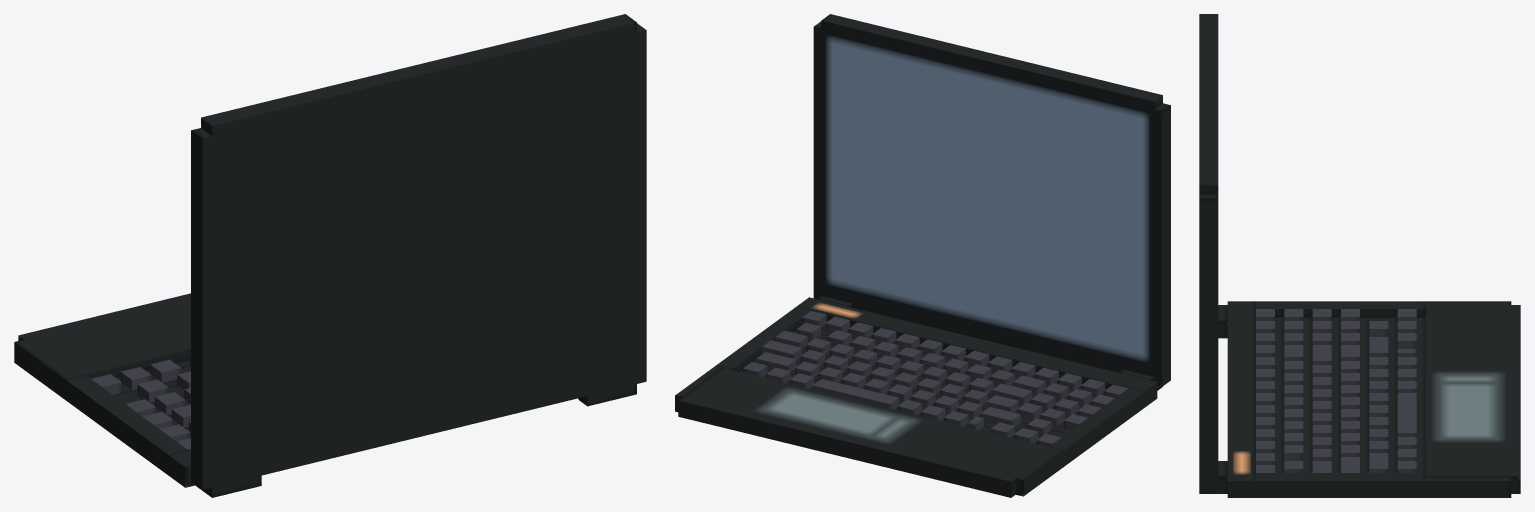
The model's file is laptop.dae.
3 views of the same model, side by side, from view 1: azimuth 30°, elevation 25°; view 2: azimuth 150°, elevation 25°; view 3: azimuth 270°, elevation 25° (orthographic). The views are drawn at different scales.
Parts seen in each view (by area): view 1: Content; view 2: Content; view 3: Content.
Part boxes in pixels (x1,y1,x2,y2): Content: (14,14,646,497); Content: (675,14,1170,497); Content: (1199,14,1520,497).
Bounding box in the file's own units: 45 × 36 × 34.
Materials: 1 (1 with a texture image).
